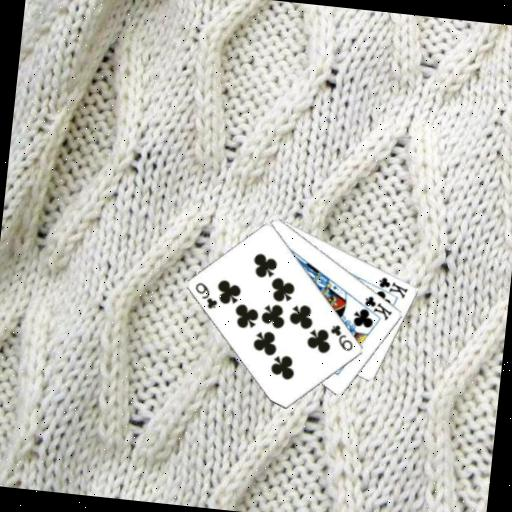9C: (326, 321, 357, 354), (191, 279, 221, 312)
KC: (354, 292, 396, 323), (369, 272, 410, 301)
